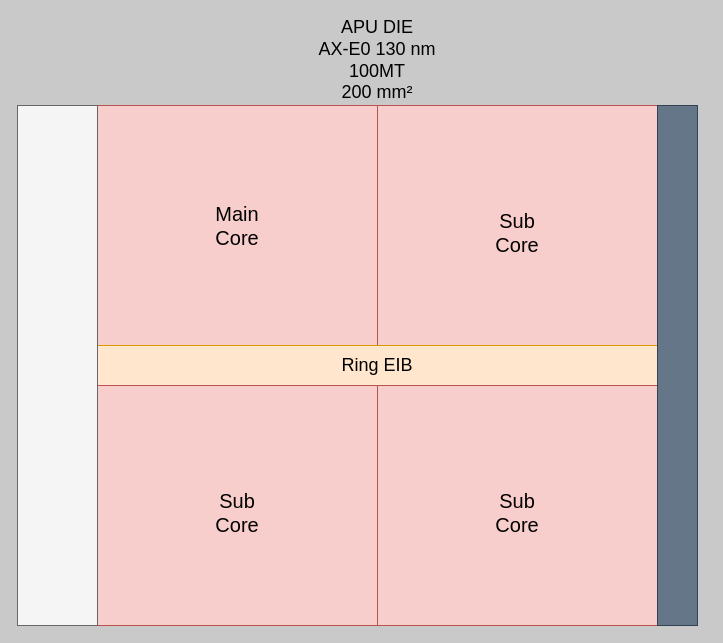
This 723x643 diagram has some shape labels left out. Each missing label, with the centre of its shape:
I/O Controller: [677,365]
Memory Controller: [57,365]
